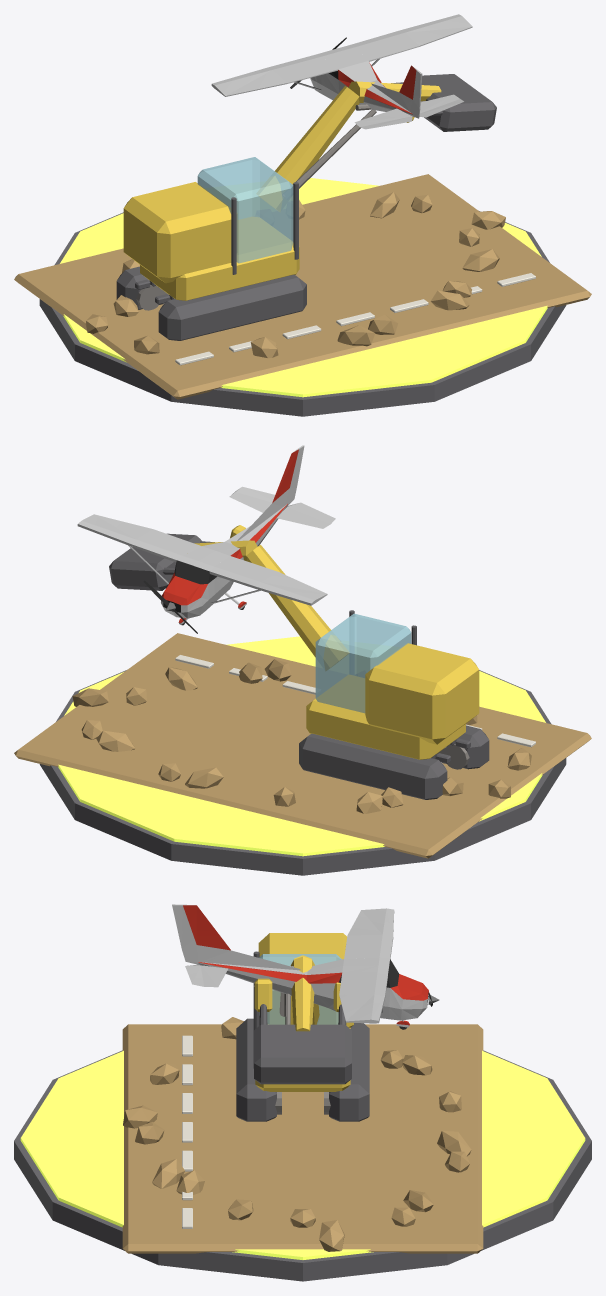
File: demo.glb
3 renders of one model, top to bottom at view 1: azimuth 30°, elevation 25°; view 2: azimuth 150°, elevation 25°; view 3: azimuth 270°, elevation 25°, orthographic. The views are drawn at different scales.
Visible parts, largest first — view 1: Runway, Stage_Trim, Stage_Platform, Fuselage_Cube.003, ExcavatorCounterweight, ExcavatorCab, Track_-1, ExcavatorBase, ExcavatorBoom, ExcavatorBucket, Track_1, BoomHydraulic (+5 smaller); view 2: Runway, Stage_Trim, Fuselage_Cube.003, Stage_Platform, ExcavatorCounterweight, ExcavatorCab, Track_1, ExcavatorBase, ExcavatorBoom, ExcavatorBucket, Track_-1, DemoRock_14 (+1 smaller); view 3: Runway, Stage_Trim, Fuselage_Cube.003, Stage_Platform, ExcavatorBucket, ExcavatorCounterweight, Track_-1, Track_1, ExcavatorCab, ExcavatorStick, ExcavatorBase, DemoRock_11 (+8 smaller).
Part boxes in pixels (x1,y1,x2,y2): Runway: (14, 174, 591, 399); Stage_Trim: (60, 178, 547, 397); Stage_Platform: (39, 211, 566, 416); Fuselage_Cube.003: (211, 14, 472, 129); ExcavatorCounterweight: (123, 182, 237, 283); ExcavatorCab: (197, 157, 293, 263); Track_-1: (158, 274, 306, 340); ExcavatorBase: (140, 217, 299, 300); ExcavatorBoom: (256, 86, 359, 211); ExcavatorBucket: (421, 74, 496, 131); Track_1: (116, 266, 162, 309); BoomHydraulic: (282, 109, 376, 196); Runway: (14, 633, 591, 858); Stage_Trim: (58, 636, 545, 856); Fuselage_Cube.003: (77, 445, 335, 625); Stage_Platform: (39, 670, 566, 875); ExcavatorCounterweight: (365, 643, 479, 744); ExcavatorCab: (315, 613, 411, 713); Track_1: (299, 733, 447, 799); ExcavatorBase: (306, 675, 465, 759); ExcavatorBoom: (246, 545, 349, 670); ExcavatorBucket: (109, 533, 201, 590); Track_-1: (443, 725, 489, 769); DemoRock_14: (96, 730, 134, 751); Runway: (122, 1024, 483, 1253); Stage_Trim: (20, 1050, 585, 1259); Fuselage_Cube.003: (172, 904, 428, 1029); Stage_Platform: (14, 1050, 591, 1281); ExcavatorBucket: (254, 1024, 351, 1084); ExcavatorCounterweight: (258, 933, 353, 1027); Track_-1: (236, 1018, 276, 1121); Track_1: (329, 1023, 369, 1121); ExcavatorCab: (259, 954, 341, 1024); ExcavatorStick: (290, 956, 314, 1031); ExcavatorBase: (255, 1024, 350, 1091); DemoRock_11: (319, 1220, 344, 1251).
Size of the model in its own units: 8.5 by 4.65 by 8.5.
